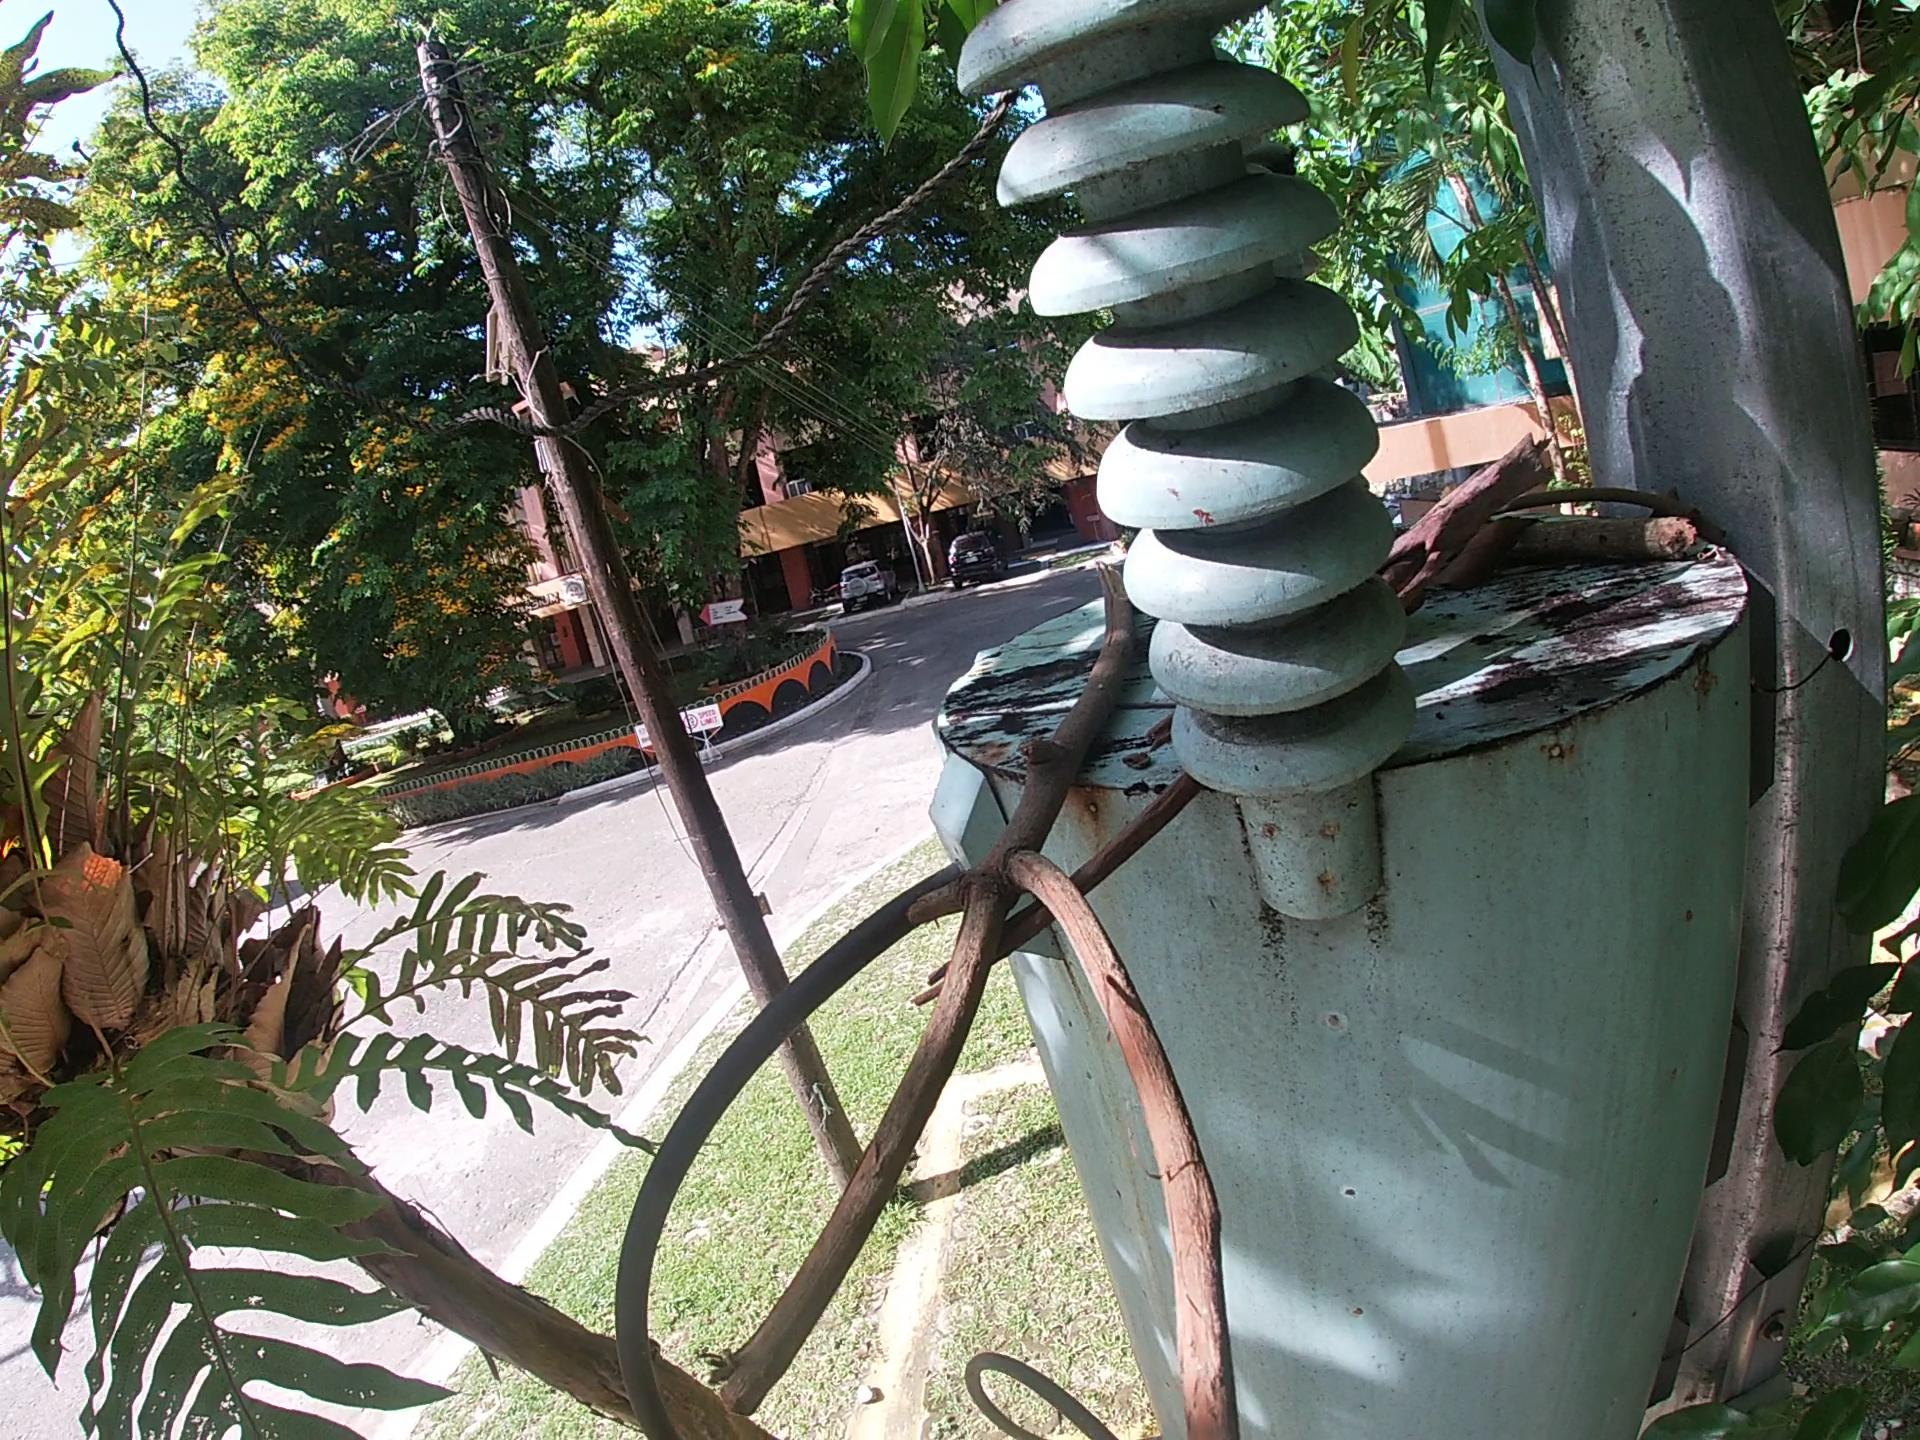leaf: (1426, 505, 1541, 601)
tree branch: (689, 552, 1261, 1438), (909, 767, 1211, 1010), (1380, 430, 1562, 616), (1503, 510, 1701, 573), (1503, 486, 1717, 525)
